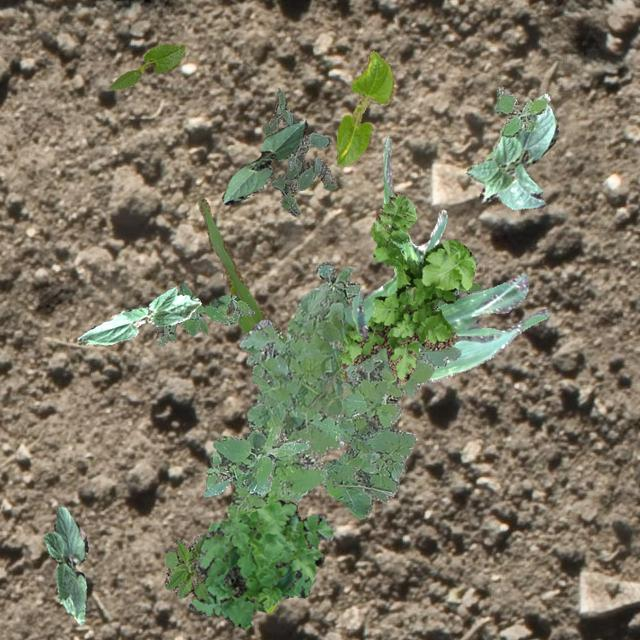crop: (197, 196, 416, 342), (350, 273, 550, 382), (361, 134, 446, 328), (462, 92, 558, 208), (220, 119, 306, 204), (76, 286, 200, 344), (336, 50, 394, 166), (42, 506, 86, 624), (108, 44, 184, 88)
weed: (227, 282, 366, 522), (334, 190, 474, 384), (322, 344, 460, 518), (186, 498, 332, 628), (262, 88, 336, 216), (202, 424, 310, 496), (154, 282, 254, 344), (164, 532, 208, 600), (494, 86, 548, 136), (316, 260, 360, 298), (434, 280, 481, 308)
